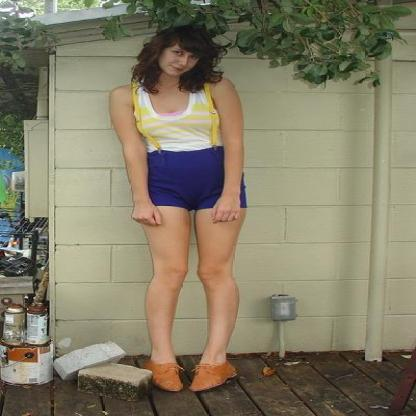shirt: (131, 87, 232, 152)
shoe: (144, 353, 238, 390)
shorts: (146, 146, 245, 211)
